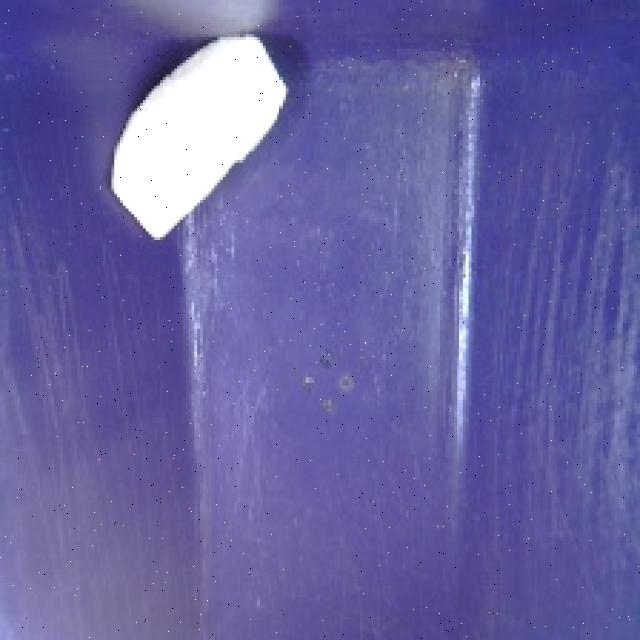white_radish: (86, 21, 298, 250)
